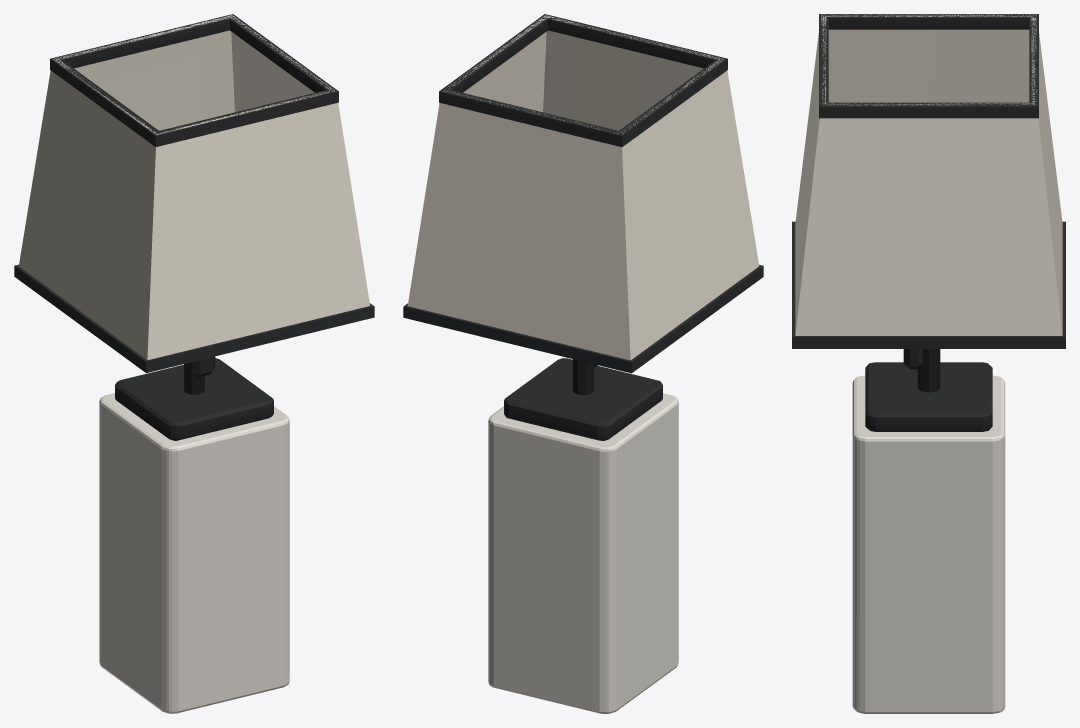
File: lampTableSquare.glb
3 renders of one model, left to right at view 1: azimuth 30°, elevation 25°; view 2: azimuth 150°, elevation 25°; view 3: azimuth 270°, elevation 25°, orthographic. The views are drawn at different scales.
Visible parts, largest first — view 1: lampTableSquare; view 2: lampTableSquare; view 3: lampTableSquare.
Boxes of the visible parts, x1,y1,x2,y2 form: lampTableSquare: [14, 14, 374, 713]; lampTableSquare: [403, 14, 763, 713]; lampTableSquare: [792, 14, 1065, 713].
Size of the model in its own units: 0.2151 by 0.54 by 0.2151.
